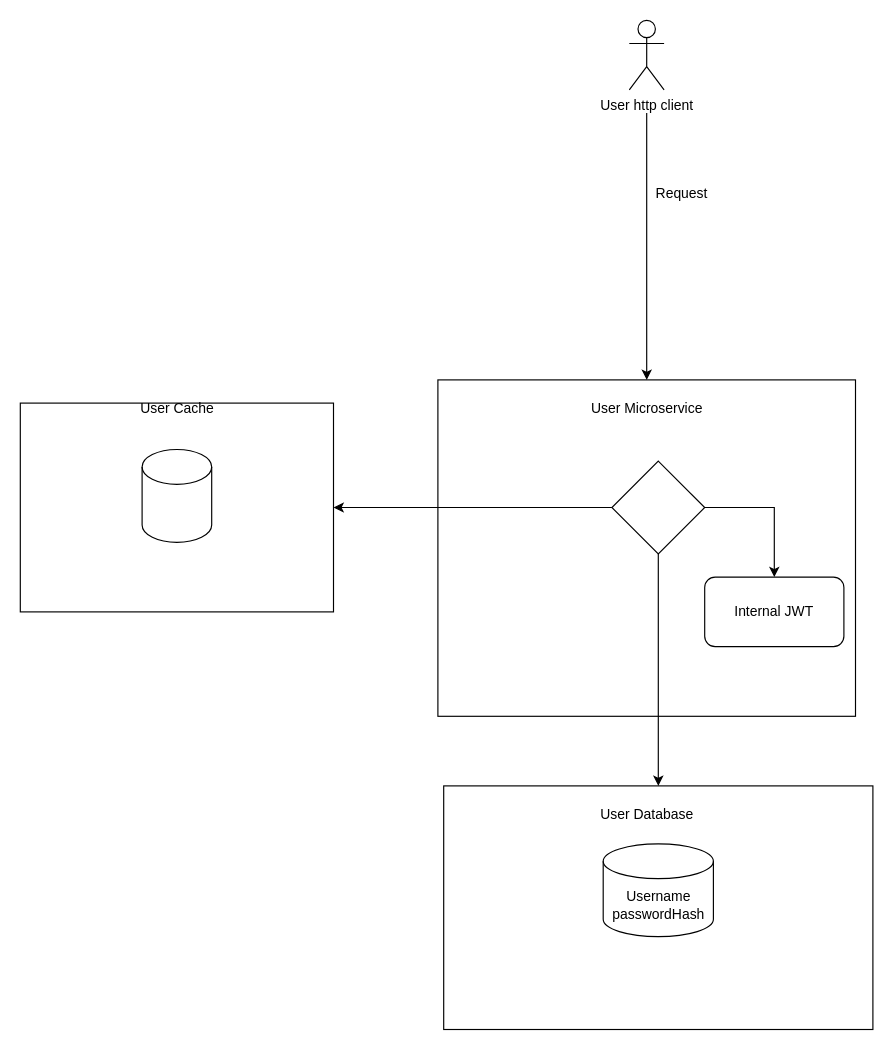
Some shapes in this 893 by 1050 pixel diagram are drawn without their labels. The centre of each missing label's shape, as x and y in pixels:
"Session Auth" belongs at pixel 658 507.
"Session Id Expires" belongs at pixel 176 495.
